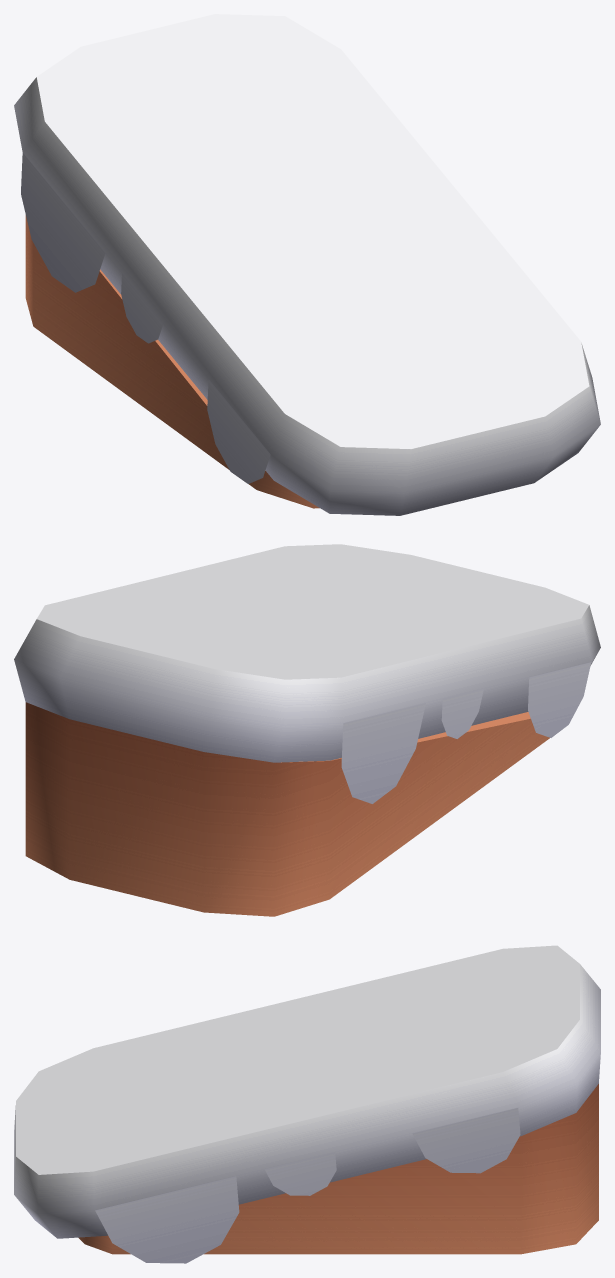
Rendered from block-snow-overhang-large-slope-narrow.glb.
The picture shows the model from 3 angles, top to bottom: view 1: azimuth 30°, elevation 25°; view 2: azimuth 150°, elevation 25°; view 3: azimuth 270°, elevation 25°; orthographic projection. The views are drawn at different scales.
Visible parts, largest first — view 1: block-snow-overhang-large-slope-narrow; view 2: block-snow-overhang-large-slope-narrow; view 3: block-snow-overhang-large-slope-narrow.
Part boxes in pixels (x1=…): block-snow-overhang-large-slope-narrow: x1=14, y1=14, x2=600, y2=515; block-snow-overhang-large-slope-narrow: x1=14, y1=544, x2=600, y2=916; block-snow-overhang-large-slope-narrow: x1=14, y1=945, x2=600, y2=1263.
Size of the model in its own units: 1.08 by 0.7751 by 2.01.
1 material, 1 textured.
